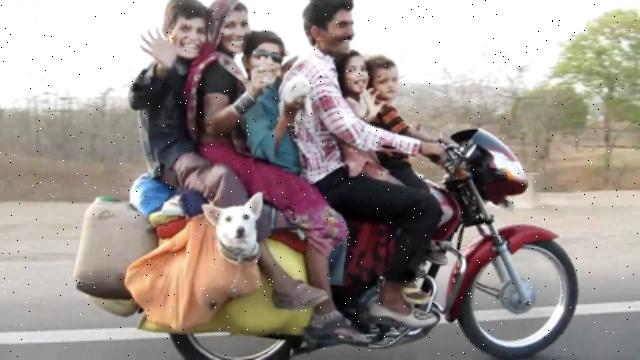Without Helmet: (293, 0, 363, 64), (162, 0, 208, 62), (208, 0, 250, 56), (240, 29, 282, 83), (336, 50, 368, 98), (368, 51, 398, 99)
